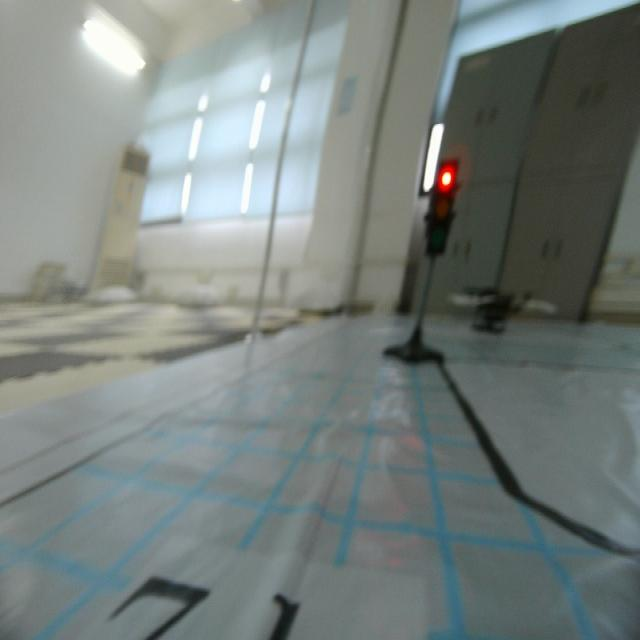red: (428, 156, 458, 256)
